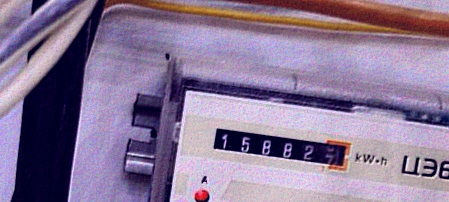1: (219, 132, 230, 149)
2: (302, 142, 315, 161)
5: (240, 135, 252, 152)
7: (324, 152, 334, 165)
8: (281, 140, 294, 159), (261, 139, 273, 156)
screen: (206, 118, 358, 177)
